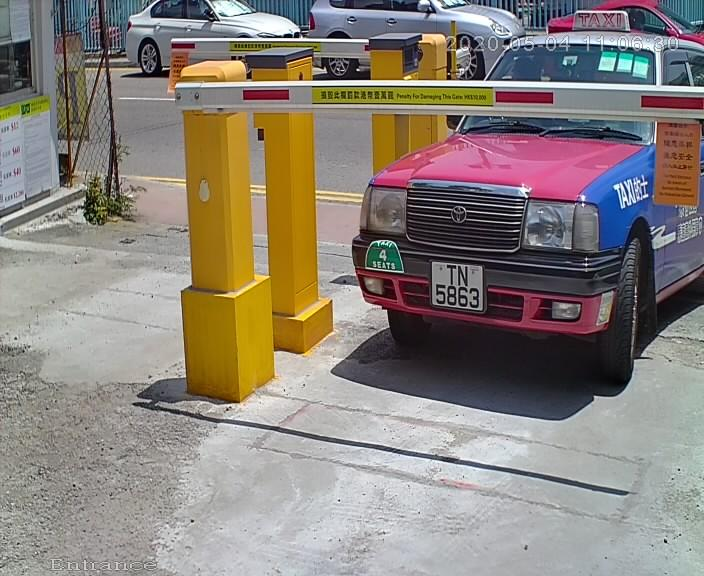Car: (348, 9, 704, 396)
License Plate: (431, 258, 497, 312)
